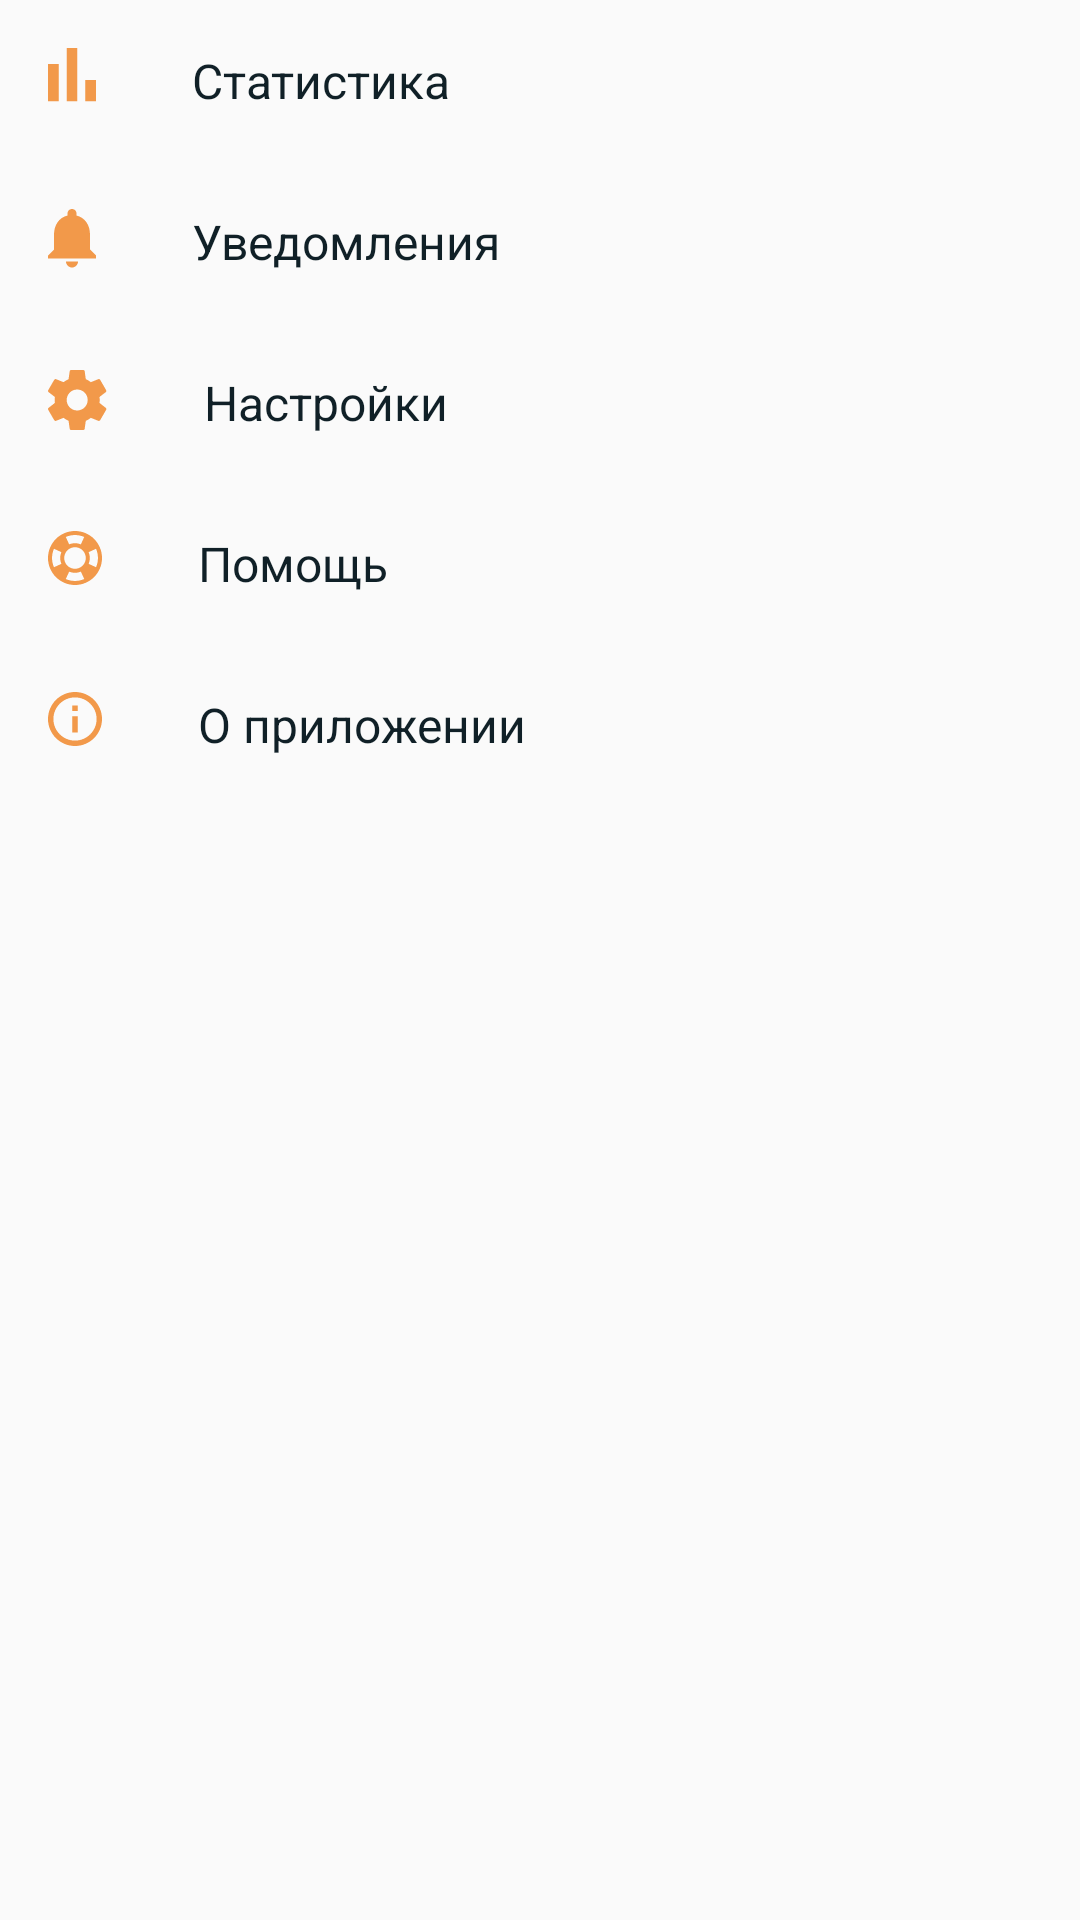

Icons on this 1080 x 1920 Android screen, each with its box as (x1, y1, x2, y2):
about: (48, 692, 102, 746)
help: (48, 531, 102, 585)
notif: (48, 209, 96, 268)
settings: (48, 370, 107, 430)
statistic: (48, 48, 96, 102)
